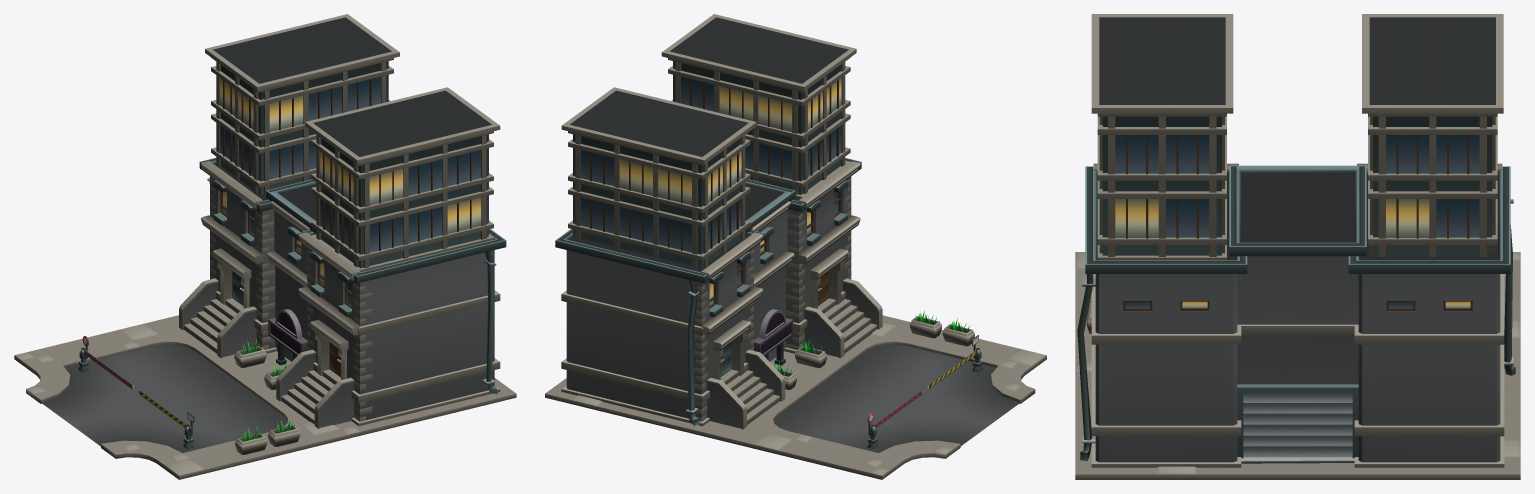
File: lasthouse 1.fbx
The picture shows the model from 3 angles, left to right: view 1: azimuth 30°, elevation 25°; view 2: azimuth 150°, elevation 25°; view 3: azimuth 270°, elevation 25°; orthographic projection. The views are drawn at different scales.
Visible parts, largest first — view 1: Building_17A; view 2: Building_17A; view 3: Building_17A.
Part boxes in pixels (left/top/right/bottom): Building_17A: left=14, top=14, right=516, bottom=479; Building_17A: left=545, top=14, right=1046, bottom=479; Building_17A: left=1075, top=14, right=1520, bottom=479.
Size of the model in its own units: 2800 by 1991 by 2200.
